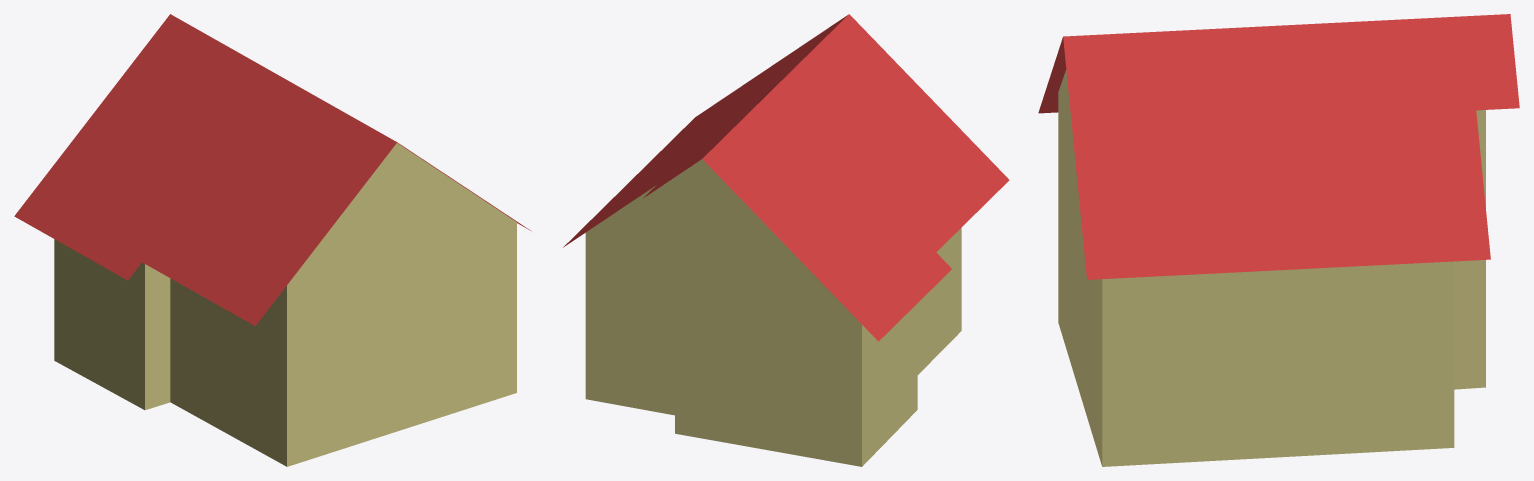
The picture shows the model from 3 angles, left to right: view 1: azimuth 30°, elevation 25°; view 2: azimuth 150°, elevation 25°; view 3: azimuth 270°, elevation 25°; orthographic projection. The views are drawn at different scales.
Size of the model in its own units: 14.88 by 14.79 by 11.92.
